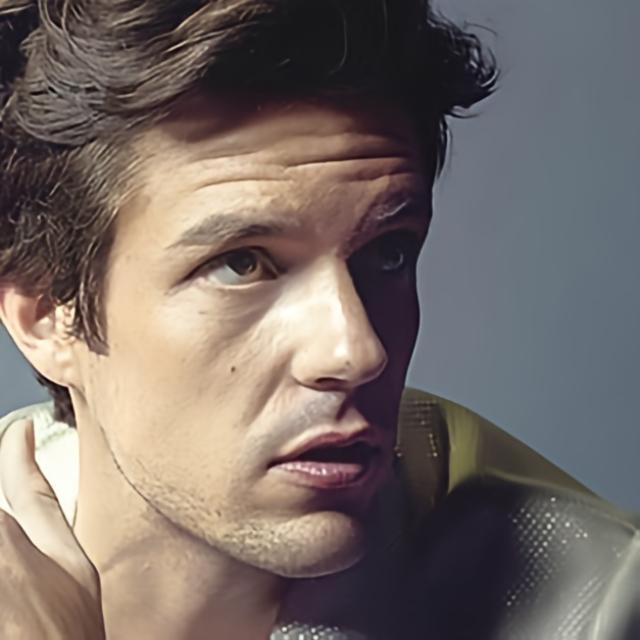surprise: (80, 74, 437, 582)
